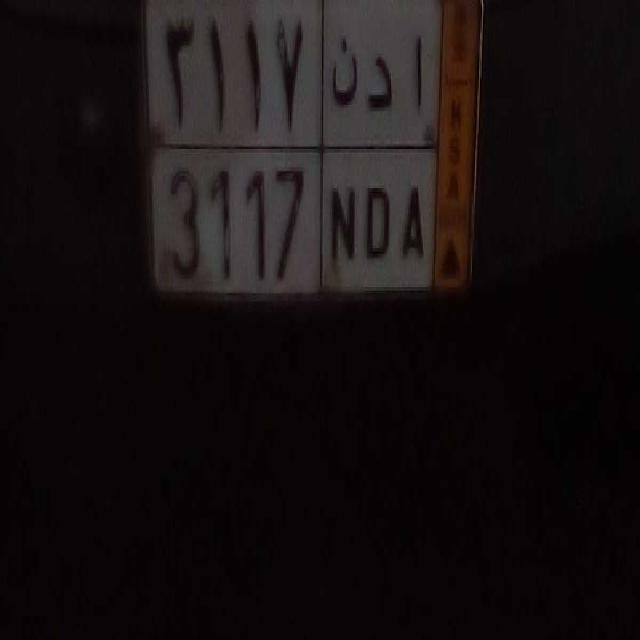license_plate: (154, 140, 437, 306)
